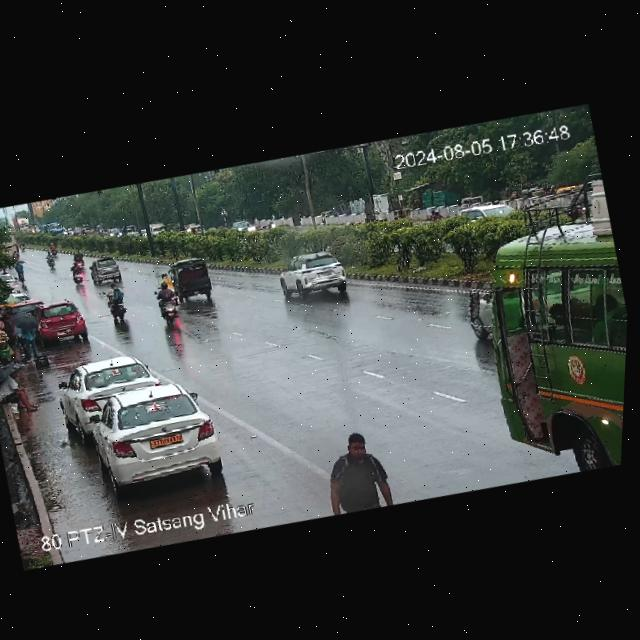bus: (473, 256, 630, 485)
car: (65, 369, 232, 504), (56, 348, 162, 428), (277, 246, 357, 306), (157, 253, 220, 305), (456, 188, 522, 235), (32, 298, 90, 346), (86, 253, 129, 287)
motorcycle: (147, 278, 187, 322), (97, 280, 136, 325), (60, 246, 96, 282), (60, 254, 88, 290), (261, 213, 279, 237), (42, 248, 60, 269)
person: (318, 425, 395, 517), (0, 362, 45, 418), (14, 313, 47, 364)
